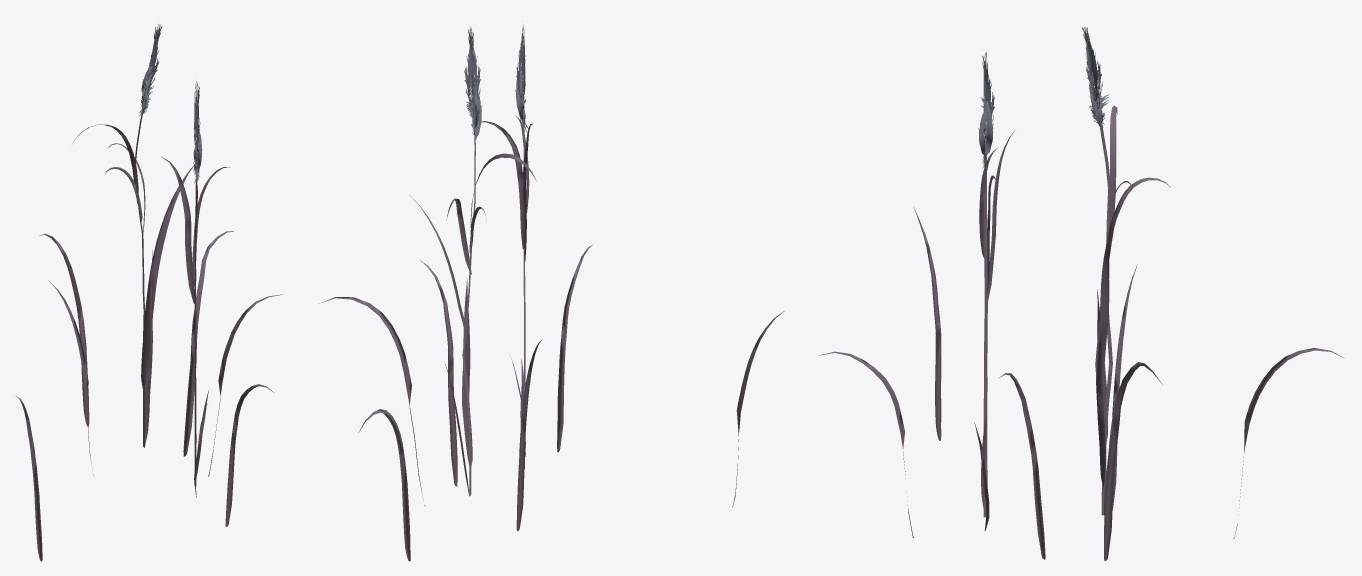
3 renders of one model, left to right at view 1: azimuth 30°, elevation 25°; view 2: azimuth 150°, elevation 25°; view 3: azimuth 270°, elevation 25°, orthographic. The views are drawn at different scales.
Parts seen in each view (by area): view 1: SM_FH_GrassLongSeeded_01_LOD0; view 2: SM_FH_GrassLongSeeded_01_LOD0; view 3: SM_FH_GrassLongSeeded_01_LOD0.
Boxes of the visible parts, <box> form: SM_FH_GrassLongSeeded_01_LOD0: <box>15,24,283,561</box>; SM_FH_GrassLongSeeded_01_LOD0: <box>319,21,784,561</box>; SM_FH_GrassLongSeeded_01_LOD0: <box>819,27,1343,561</box>.
Size of the model in its own units: 1 by 1.33 by 1.21.
1 material, 1 textured.
